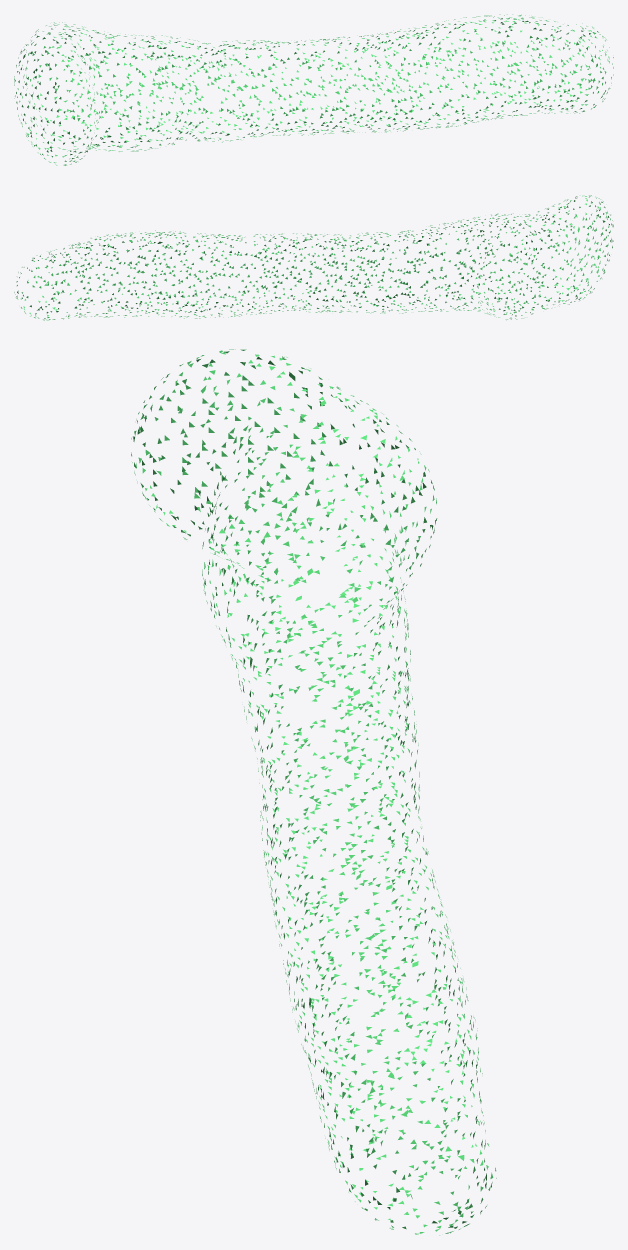
Rendered from morph_020.glb.
3 views of the same model, one above another, from view 1: azimuth 30°, elevation 25°; view 2: azimuth 150°, elevation 25°; view 3: azimuth 270°, elevation 25° (orthographic). The views are drawn at different scales.
Bounding box in the file's own units: 138 × 51.4 × 41.7.
